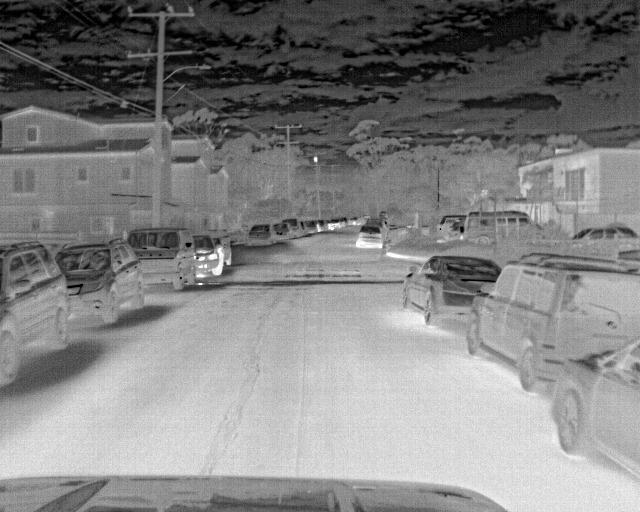car: (461, 256, 638, 394), (552, 338, 639, 486), (0, 238, 75, 389), (58, 239, 148, 323), (402, 252, 502, 327), (127, 227, 198, 289), (462, 208, 544, 246), (566, 224, 635, 245), (192, 234, 222, 278), (436, 213, 466, 243), (355, 223, 387, 251), (245, 224, 281, 246), (213, 234, 234, 267), (277, 219, 303, 237)
